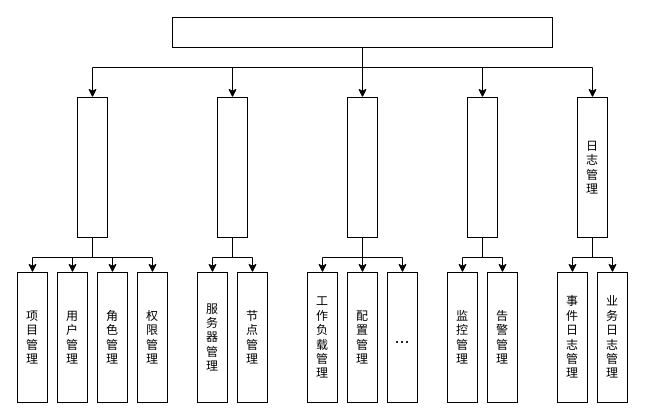
This 645x420 diagram has some shape labels left out. The box of each missing label's shape, as (x1, y1, x2, y2) in pixels:
容器管理系统: (172, 16, 552, 48)
用 户 集 群 管 理: (216, 96, 248, 238)
监 控 告 警 管 理: (466, 96, 498, 238)
系 统 信 息 管 理: (76, 96, 108, 238)
资 源 对 象 管 理: (346, 96, 378, 238)
